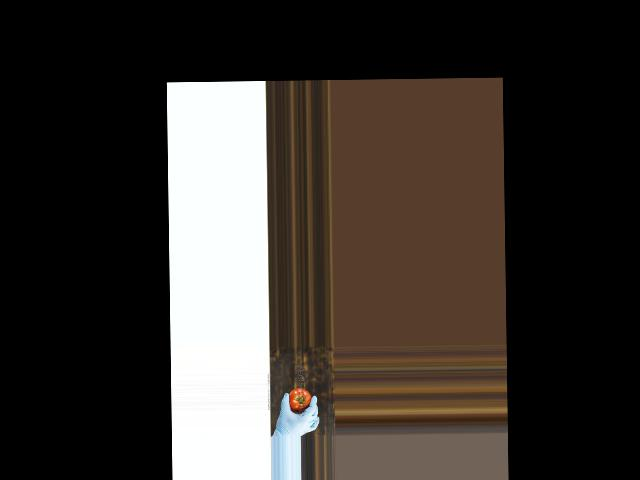tomato: (288, 387, 311, 412)
